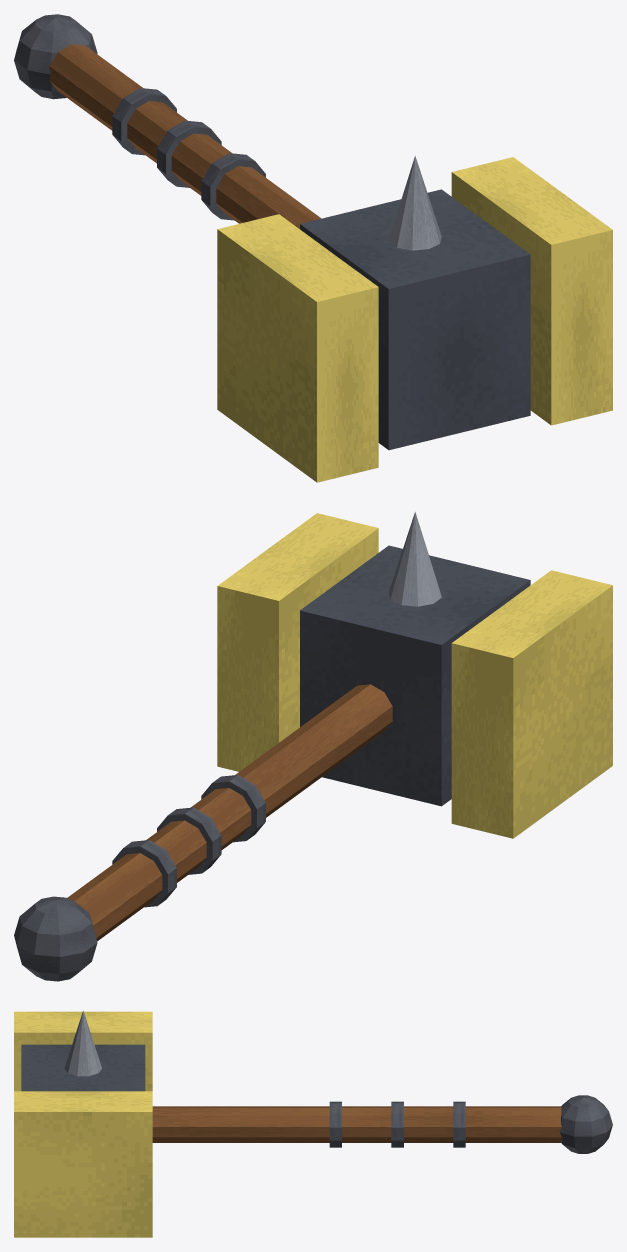
Rendered from weapon_hammer.glb.
3 renders of one model, top to bottom at view 1: azimuth 30°, elevation 25°; view 2: azimuth 150°, elevation 25°; view 3: azimuth 270°, elevation 25°, orthographic. The views are drawn at different scales.
Parts seen in each view (by area): view 1: weapon_hammer; view 2: weapon_hammer; view 3: weapon_hammer.
Part boxes in pixels (x1=…): weapon_hammer: x1=14, y1=14, x2=612, y2=482; weapon_hammer: x1=14, y1=512, x2=612, y2=981; weapon_hammer: x1=14, y1=1011, x2=612, y2=1237.
Size of the model in its own units: 0.96 by 0.79 by 2.42.
Materials: 1 (1 with a texture image).
